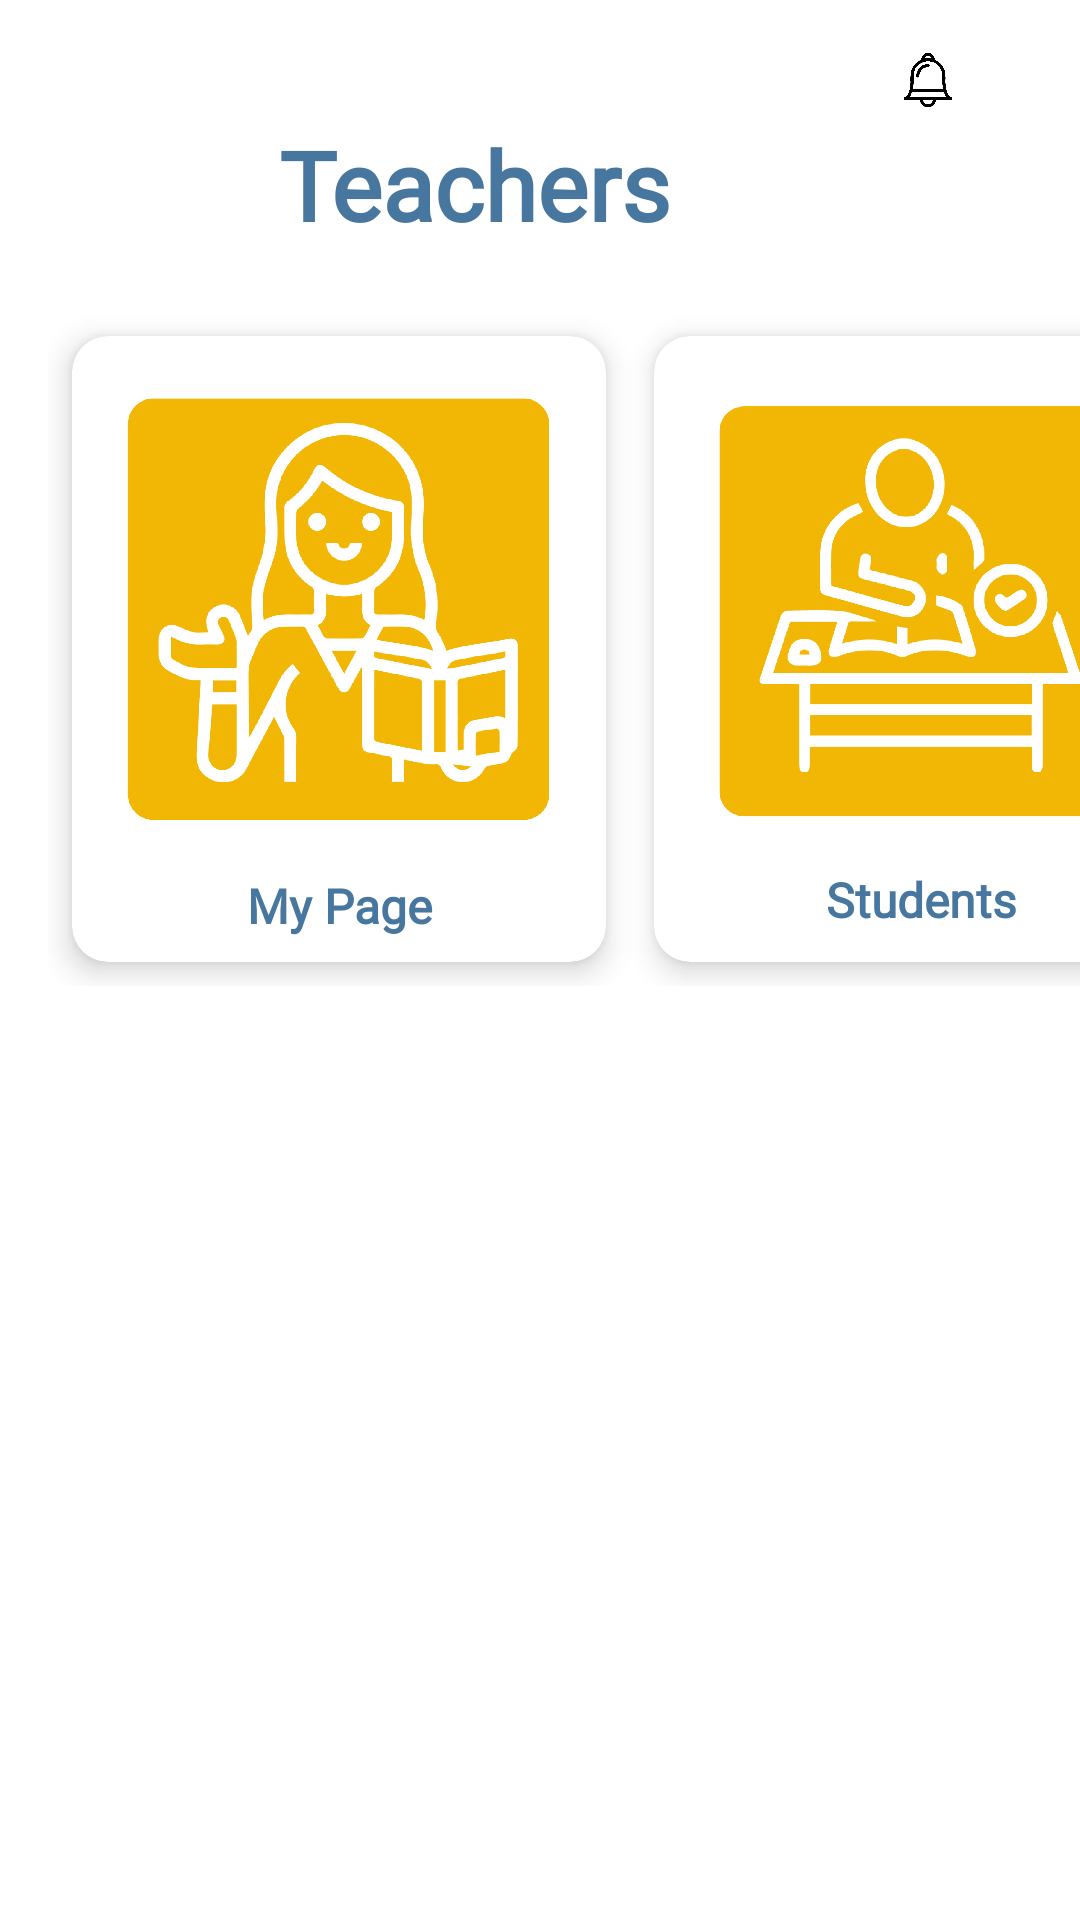

Locate icon controls on the screen. Image size 1080px×1920px, boxes as (x1, y1, x2, y2).
bellicon: (904, 53, 952, 107)
